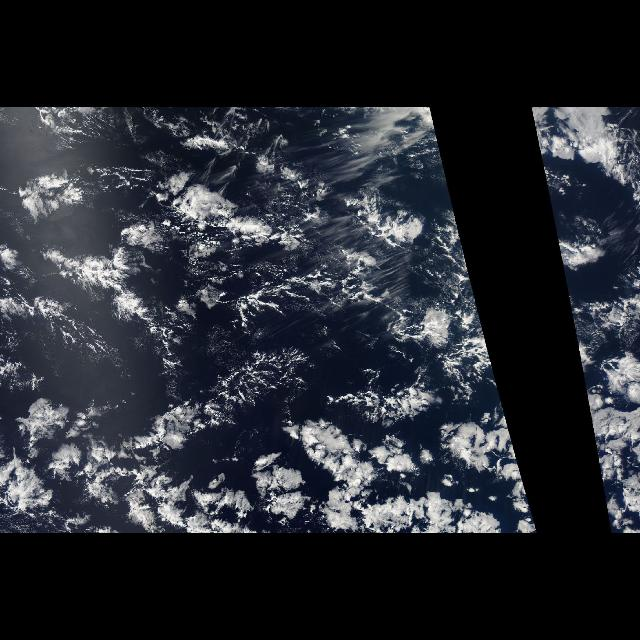Fish: (35, 242, 196, 382)
Flower: (3, 109, 540, 533), (532, 110, 638, 530)
